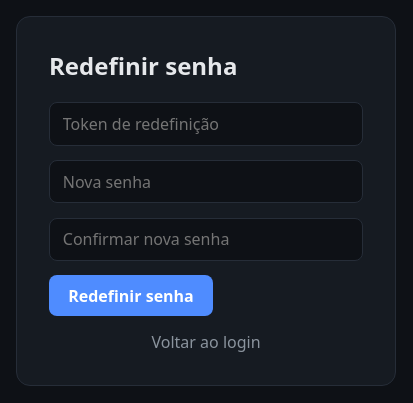
Scenario: RedefinirSenhaPage › submits token and new password, shows success on completion
Type "mytoken" into the field with placeholder "Token de redefinição" at (206, 124), box [49,102,363,146]
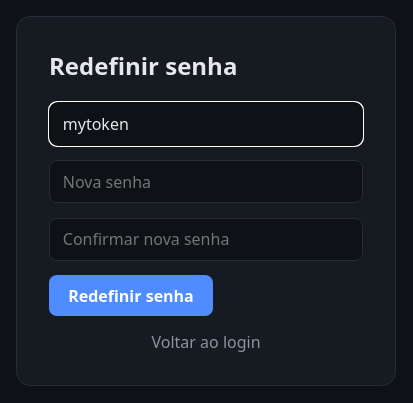
Type "newpassword1" into the password field with placeholder "Nova senha" at (206, 182), box [49,160,363,203]
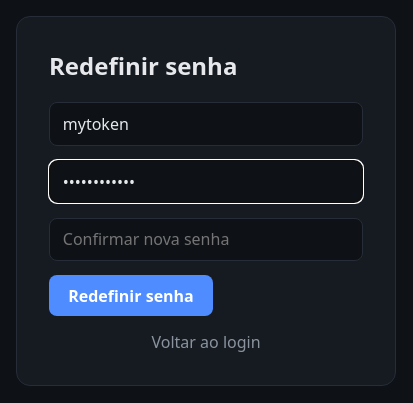
Type "newpassword1" into the password field with placeholder "Confirmar nova senha" at (206, 239), box [49,218,363,261]
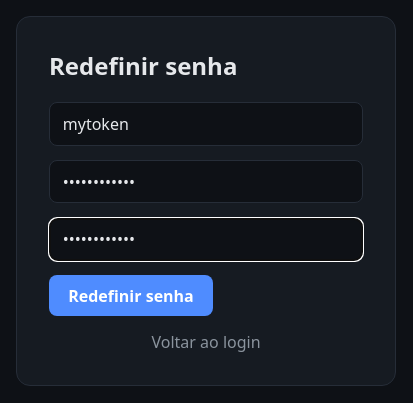
Click the button "Redefinir senha" at (131, 296), box [49,275,213,316]
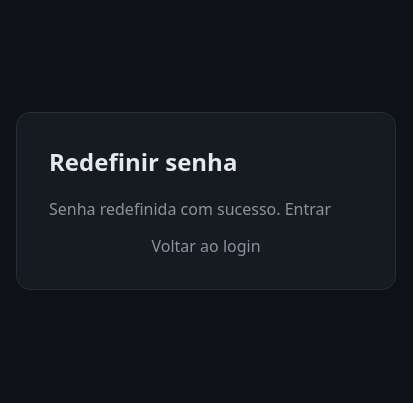
Expected: the text "Senha redefinida com sucesso. Entrar" is shown, [49,198,363,220]
